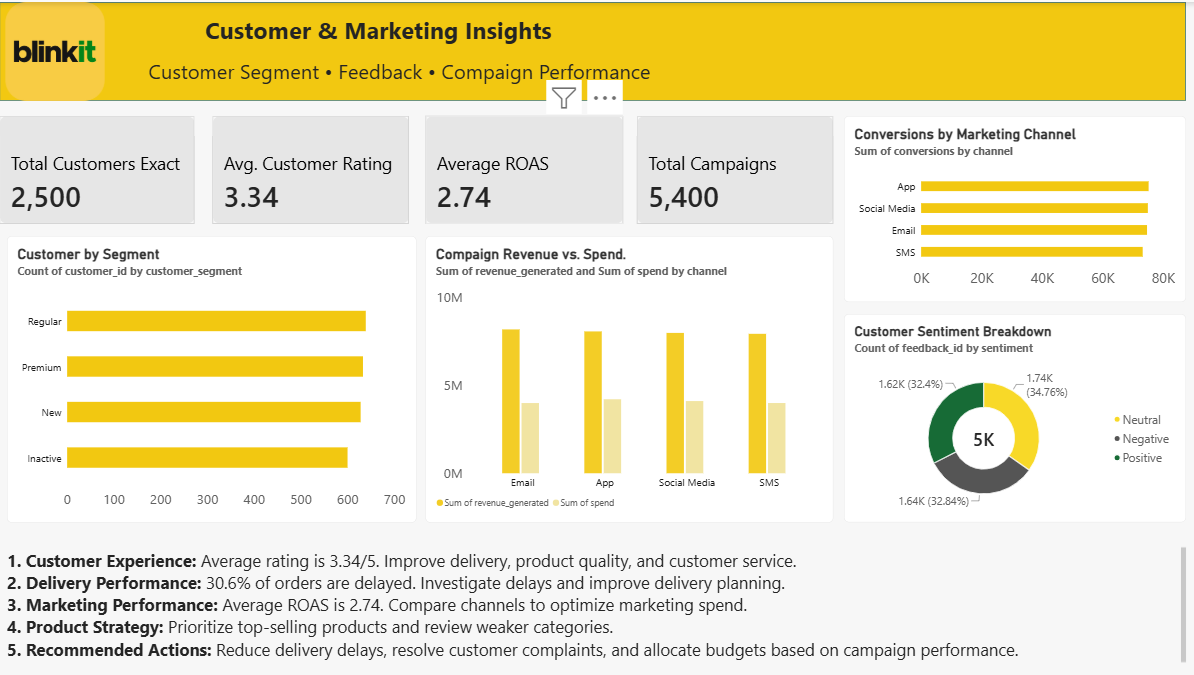

This screenshot's page, from the dashboard's own definition file:
{"tool":"powerbi","page":{"name":"Page 2","canvas":[1920,1080],"ordinal":1},"visuals":[{"type":"shape","box":[16.7,0,1887.3,157.5],"z":0},{"type":"image","box":[0,0,210,157.5],"z":1000},{"type":"textbox","box":[210,19.1,863.7,138.4],"z":2000},{"type":"cardVisual","fields":{"Data":["dashboard measures.Total Customers Exact"]},"box":[16.7,181.3,310.2,171.8],"z":3000},{"type":"cardVisual","fields":{"Data":["dashboard measures.Avg. Customer Rating"]},"box":[355.5,181.3,312.6,171.8],"z":4000},{"type":"cardVisual","fields":{"Data":["dashboard measures.Average ROAS"]},"box":[694.3,181.3,314.9,171.8],"z":5000},{"type":"cardVisual","fields":{"Data":["dashboard measures.Average ROAS"]},"box":[1030.7,181.3,312.6,171.8],"z":6000},{"type":"clusteredBarChart","title":"Customer by Segment","fields":{"Category":["public blinkit_customers.customer_segment"],"Y":["CountNonNull(public blinkit_customers.customer_id)"]},"box":[28.6,372.2,651.4,455.7],"z":7000},{"type":"donutChart","title":"Customer Sentiment Breakdown","fields":{"Category":["public blinkit_customer_feedback.sentiment"],"Y":["CountNonNull(public blinkit_customer_feedback.feedback_id)"]},"box":[1360,496.3,544,331.6],"z":8000},{"type":"clusteredBarChart","title":"Conversions by Marketing Channel","fields":{"Category":["public blinkit_marketing_performance.channel"],"Y":["Sum(public blinkit_marketing_performance.conversions)"]},"box":[1360,181.3,544,295.9],"z":9000},{"type":"clusteredColumnChart","title":"Compaign Revenue vs. Spend.","fields":{"Category":["public blinkit_marketing_performance.channel"],"Y":["Sum(public blinkit_marketing_performance.revenue_generated)","Sum(public blinkit_marketing_performance.spend)"]},"box":[694.3,372.2,649,455.7],"z":10000},{"type":"textbox","box":[28.6,837.5,1875.3,243.4],"z":10001}]}

Visuals, with their boxes in screenshot pixels (x1, y1, x2, y2), scaled from the page's 1920x1080 canvas onto the 1194x675 screenshot:
shape: (10, 0, 1184, 98)
image: (0, 0, 131, 98)
textbox: (131, 12, 668, 98)
cardVisual - dashboard measures.Total Customers Exact: (10, 113, 203, 221)
cardVisual - dashboard measures.Avg. Customer Rating: (221, 113, 415, 221)
cardVisual - dashboard measures.Average ROAS: (432, 113, 628, 221)
cardVisual - dashboard measures.Average ROAS: (641, 113, 835, 221)
"Customer by Segment" clusteredBarChart: (18, 233, 423, 517)
"Customer Sentiment Breakdown" donutChart: (846, 310, 1184, 517)
"Conversions by Marketing Channel" clusteredBarChart: (846, 113, 1184, 298)
"Compaign Revenue vs. Spend." clusteredColumnChart: (432, 233, 835, 517)
textbox: (18, 523, 1184, 674)
